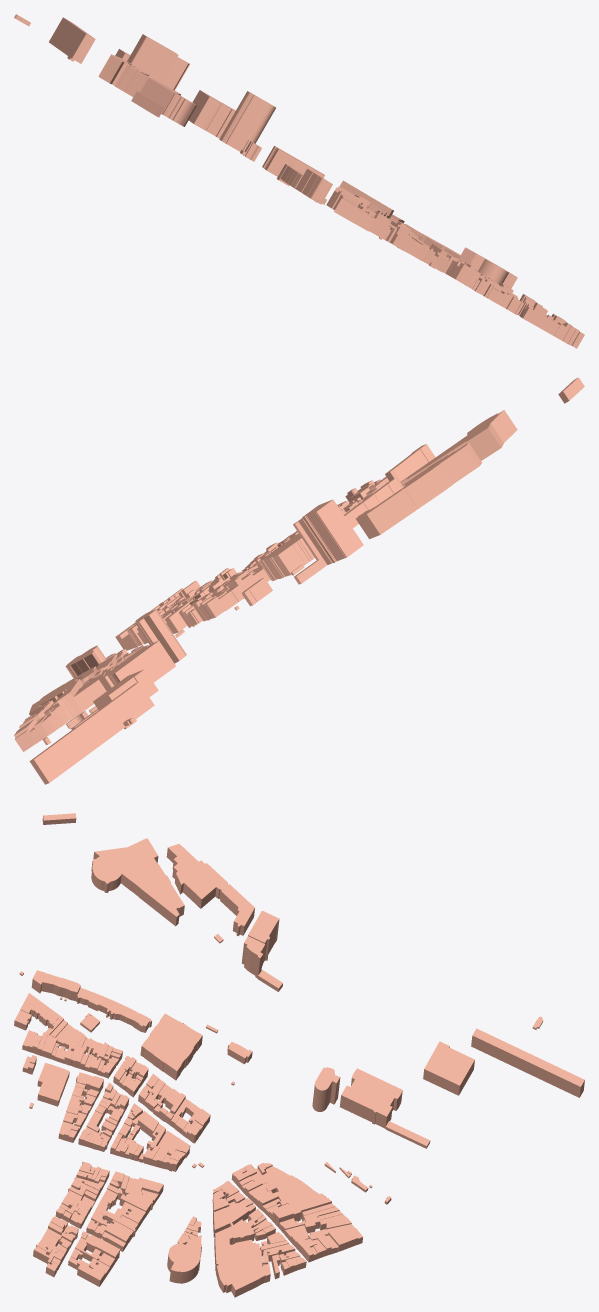
3 renders of one model, top to bottom at view 1: azimuth 30°, elevation 25°; view 2: azimuth 150°, elevation 25°; view 3: azimuth 270°, elevation 25°, orthographic. The views are drawn at different scales.
Bounding box in the file's own units: 489 × 385 × 647.
